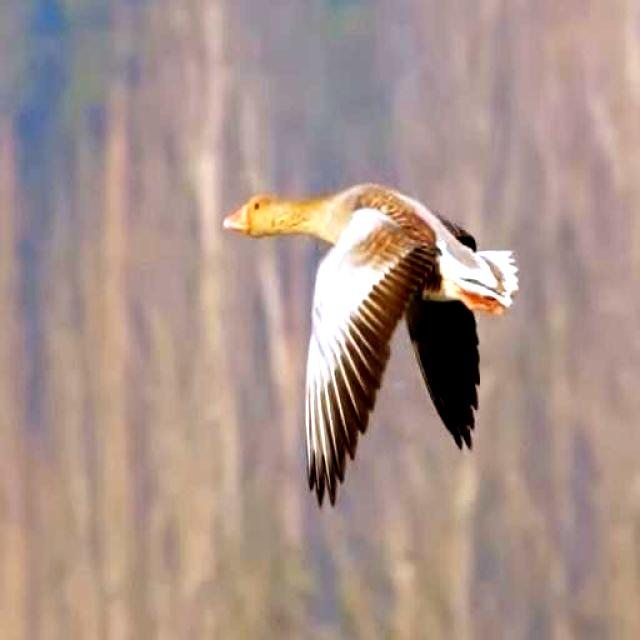airplane: (228, 172, 524, 515)
